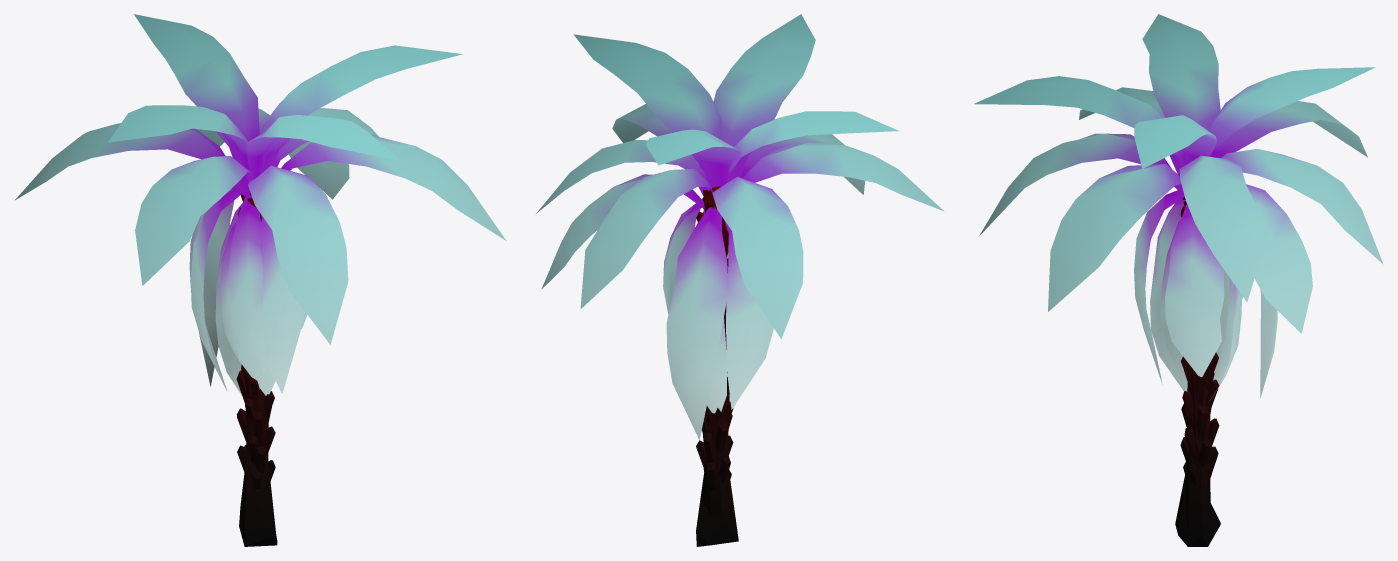
File: SM_Env_Fern_Tree_01.fbx
The picture shows the model from 3 angles, left to right: view 1: azimuth 30°, elevation 25°; view 2: azimuth 150°, elevation 25°; view 3: azimuth 270°, elevation 25°; orthographic projection. The views are drawn at different scales.
Visible parts, largest first — view 1: SM_Env_Fern_Tree_01_LOD0; view 2: SM_Env_Fern_Tree_01_LOD0; view 3: SM_Env_Fern_Tree_01_LOD0.
Part boxes in pixels (x1,y1,x2,y2): SM_Env_Fern_Tree_01_LOD0: (15, 14, 506, 546); SM_Env_Fern_Tree_01_LOD0: (536, 14, 944, 546); SM_Env_Fern_Tree_01_LOD0: (974, 14, 1383, 546).
Size of what is drawn, in the model's own units: 329 by 427 by 341.
